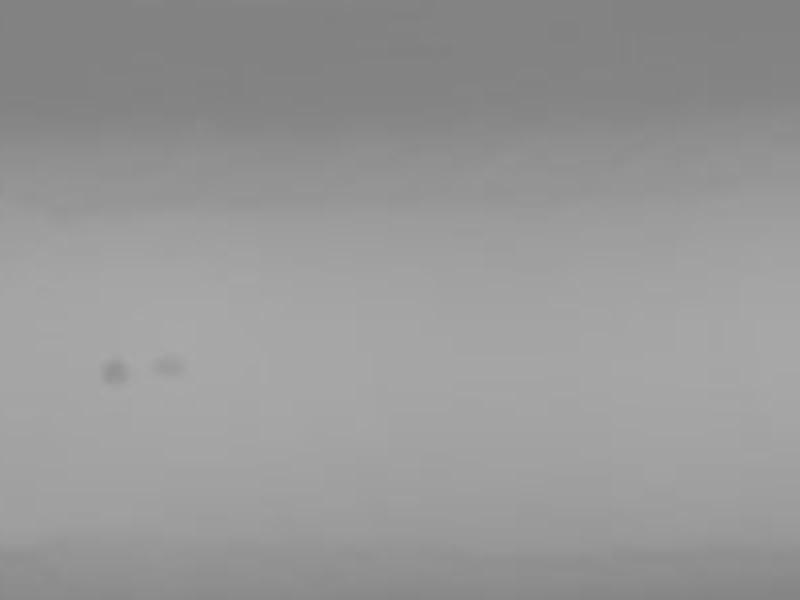defect: (93, 356, 134, 386), (153, 352, 188, 378)
